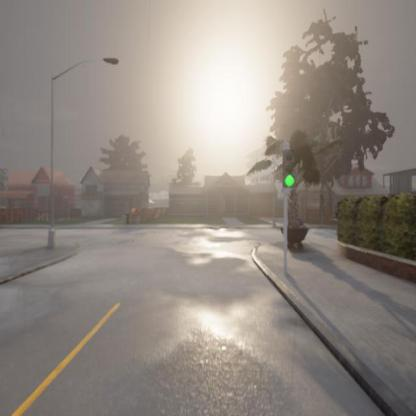traffic_light_green: (282, 148, 296, 189)
